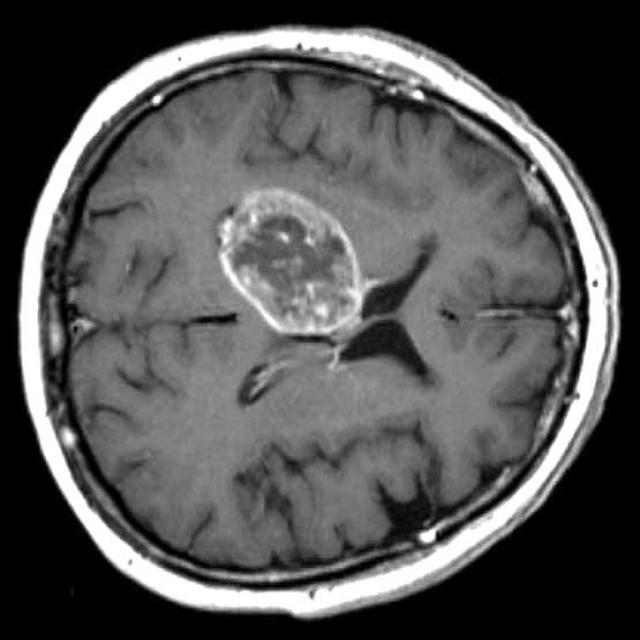tumor: (217, 186, 372, 349)
